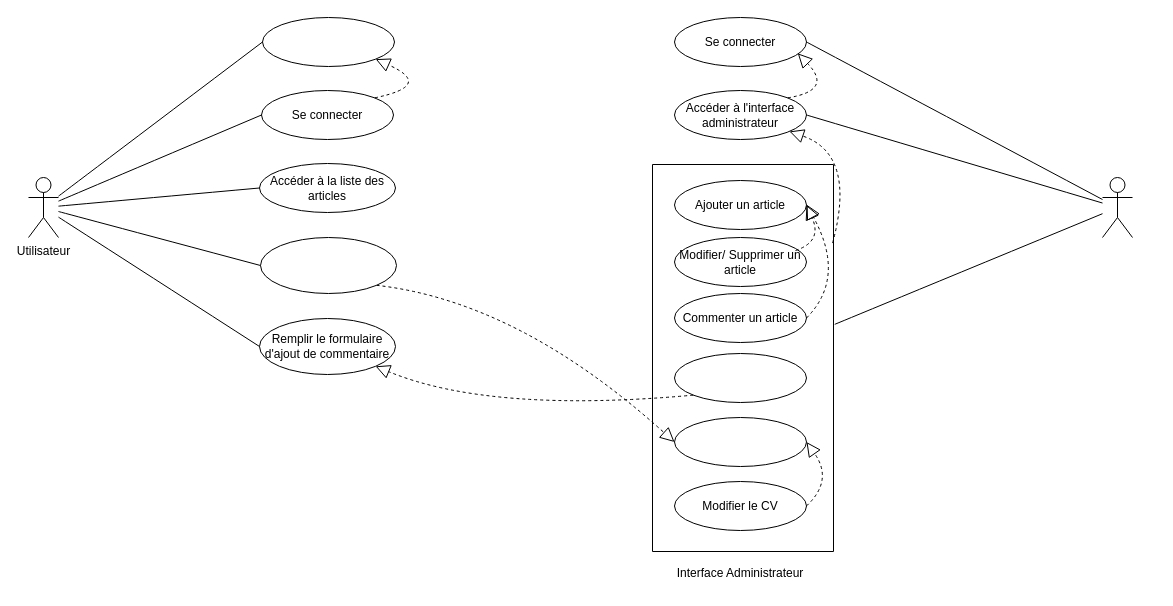
The diagram is 1173 pixels wide and 606 high, and some of its shapes have lost their labels. Here are the shapes that lost their labels. From the top down, the centre of each, then its label:
point 328,41: S'inscrire
point 1117,207: Administrateur
point 328,265: Télécharger le CV
point 740,377: Valider le commentaire d'un utilisateur
point 740,441: Ajouter un CV
